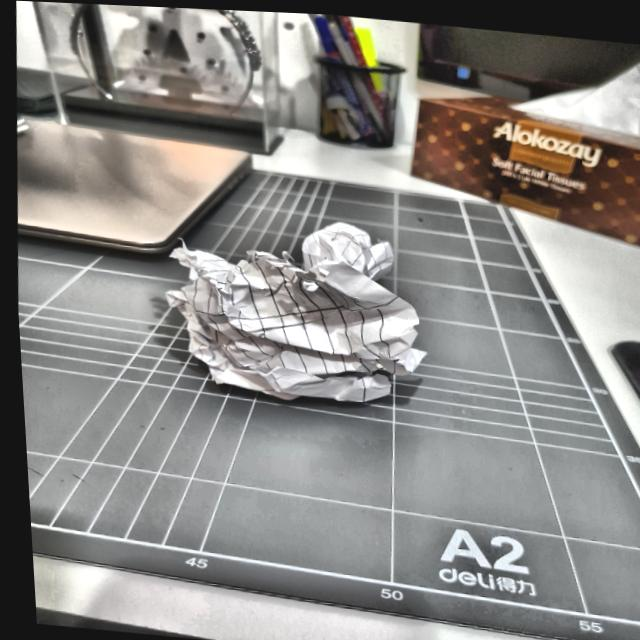Paper: (163, 211, 436, 414)
